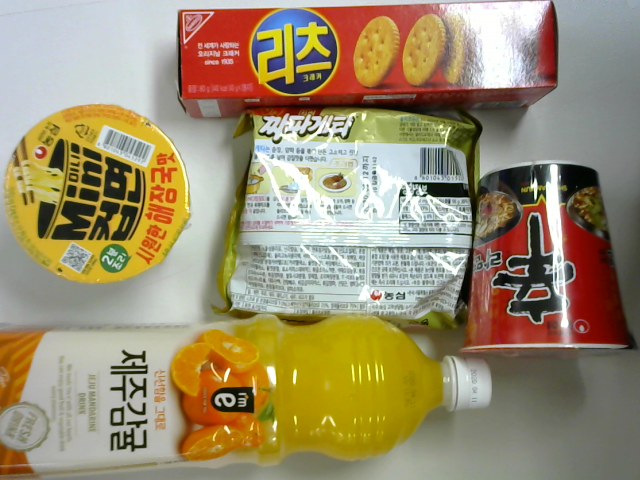Hejangmini: (5, 106, 191, 284)
Jeju_Tangerine_1.5L: (5, 318, 498, 480)
Olive_Chapaghetti: (215, 108, 483, 334)
Ritz_Cracker: (177, 4, 561, 124)
Sinramen_small: (451, 162, 640, 358)
